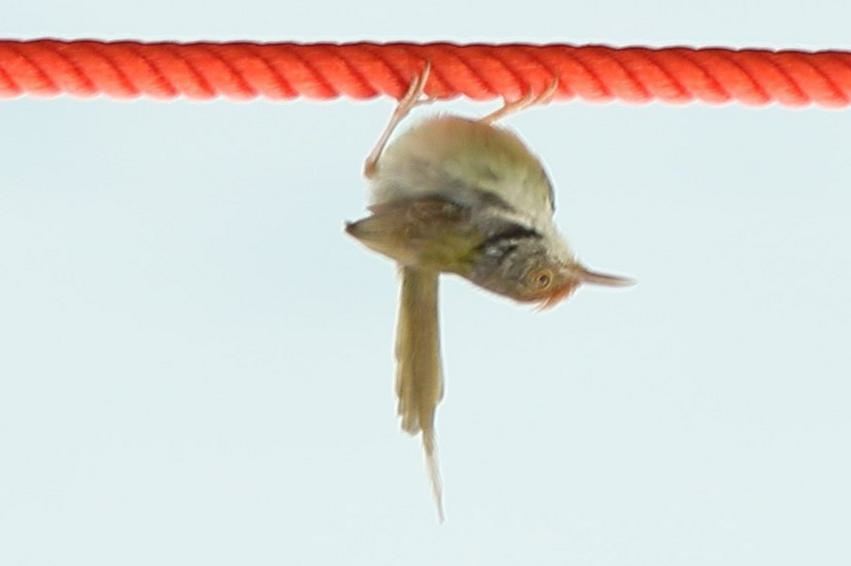tailorbird: (360, 54, 589, 505)
